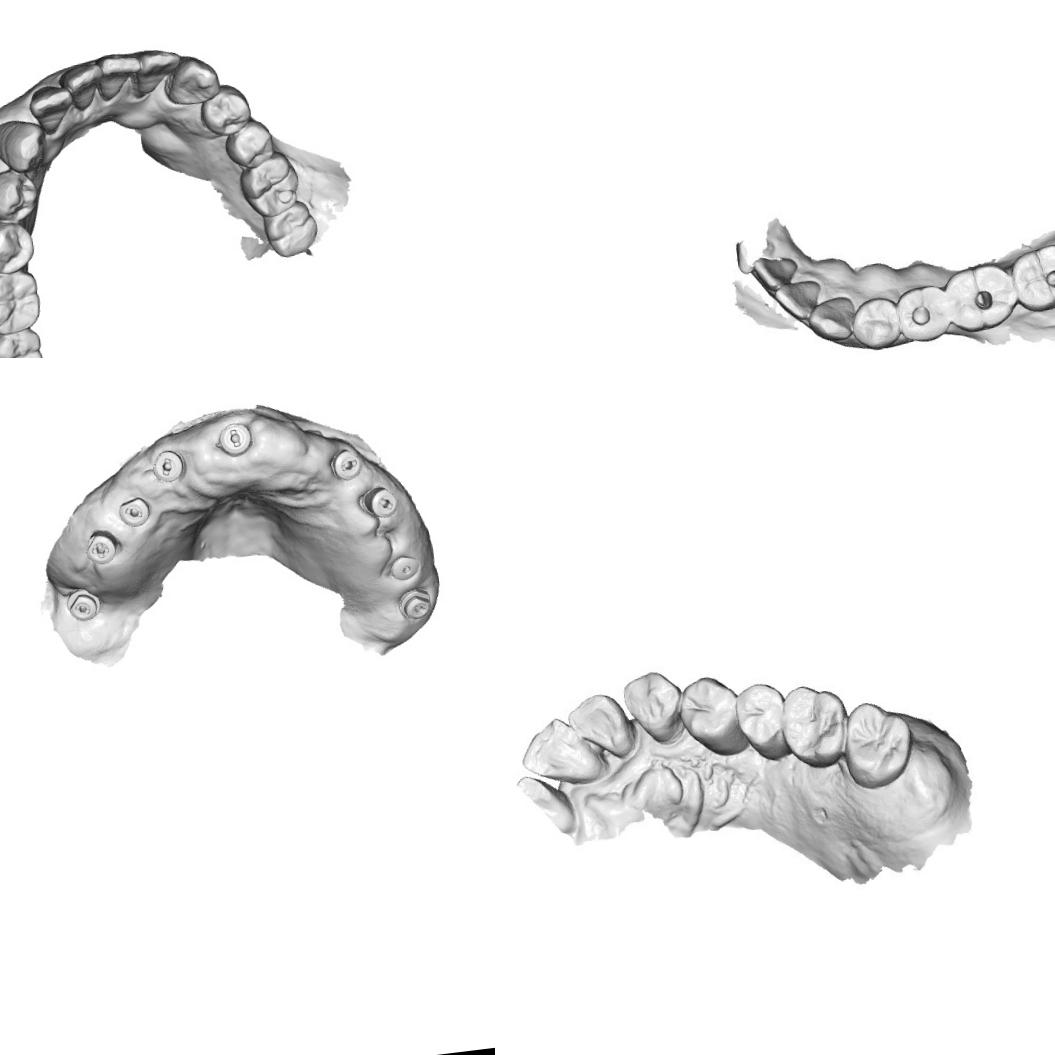canine: (619, 666, 687, 750), (799, 290, 863, 351), (163, 52, 223, 108), (0, 116, 50, 176)
implant: (394, 584, 435, 624), (386, 551, 423, 583)
implant_minus: (354, 483, 400, 522), (214, 419, 255, 460), (63, 584, 104, 624), (148, 446, 188, 484), (326, 446, 365, 484), (114, 493, 153, 530)
implant_plus: (82, 526, 120, 569)
incisor: (515, 710, 606, 791), (564, 688, 632, 764), (132, 45, 184, 102), (94, 48, 145, 106), (774, 270, 826, 326), (749, 243, 805, 294), (58, 58, 107, 112), (26, 82, 75, 135)
molar: (835, 695, 919, 794), (775, 678, 854, 773), (941, 256, 1022, 338), (235, 149, 305, 222), (258, 198, 322, 262), (1007, 237, 1055, 317), (0, 267, 44, 338), (0, 325, 48, 358)
premolar: (674, 671, 751, 761), (732, 678, 792, 760), (893, 282, 949, 344), (847, 294, 905, 352), (198, 81, 254, 139), (222, 116, 278, 170), (0, 166, 41, 226), (0, 218, 37, 278)
